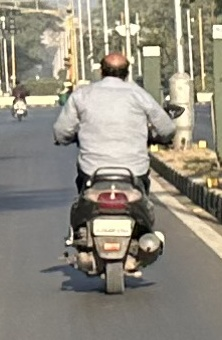BikeWithRider: (45, 47, 186, 297)
NoHelmet: (97, 47, 133, 80)
